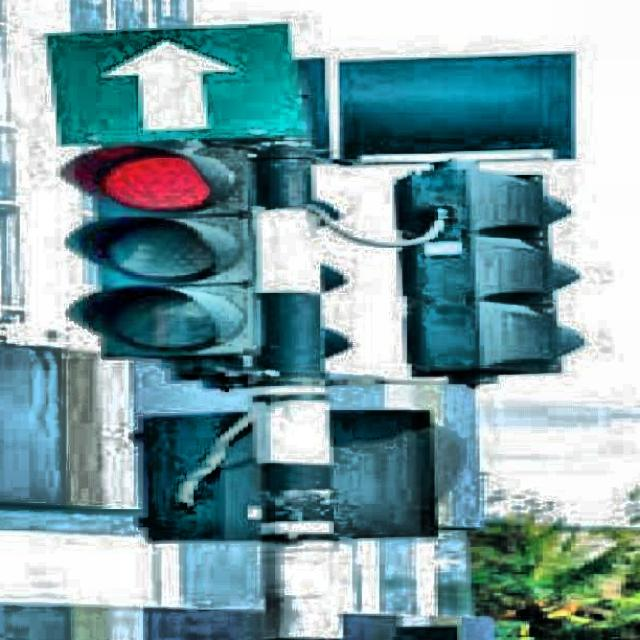red: (91, 150, 231, 357)
